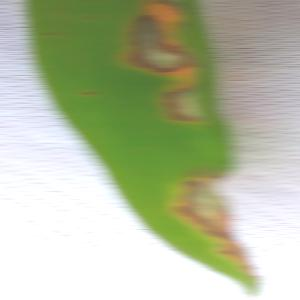1 RiceBlast: (157, 170, 261, 262), (114, 6, 203, 79), (146, 75, 220, 126)
